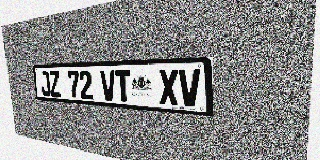2: (79, 71, 93, 99)
7: (67, 71, 81, 98)
J: (39, 71, 51, 96)
T: (115, 70, 132, 102)
V: (179, 69, 201, 107), (100, 70, 116, 101)
X: (158, 69, 179, 106)
Z: (49, 71, 61, 97)
